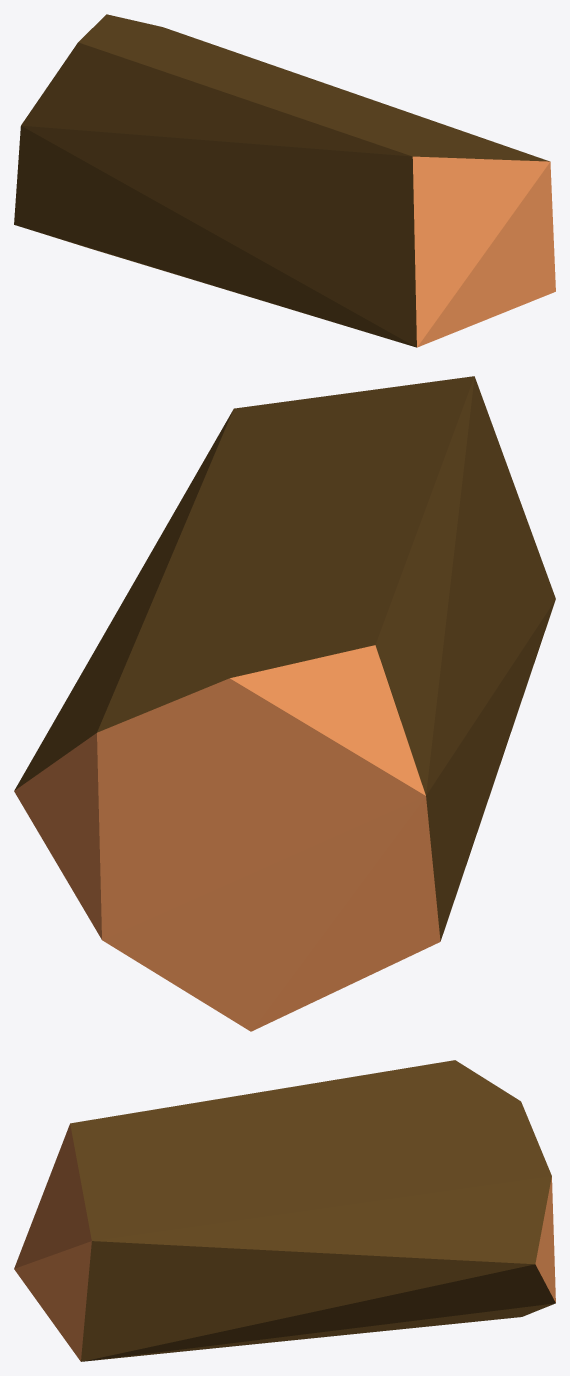
File: log.fbx
3 renders of one model, top to bottom at view 1: azimuth 30°, elevation 25°; view 2: azimuth 150°, elevation 25°; view 3: azimuth 270°, elevation 25°, orthographic. The views are drawn at different scales.
Parts seen in each view (by area): view 1: log; view 2: log; view 3: log.
Boxes of the visible parts, x1=… form: log: x1=14, y1=14, x2=555, y2=347; log: x1=14, y1=376, x2=555, y2=1031; log: x1=14, y1=1060, x2=555, y2=1361.
Size of the model in its own units: 99.57 by 68.84 by 144.
